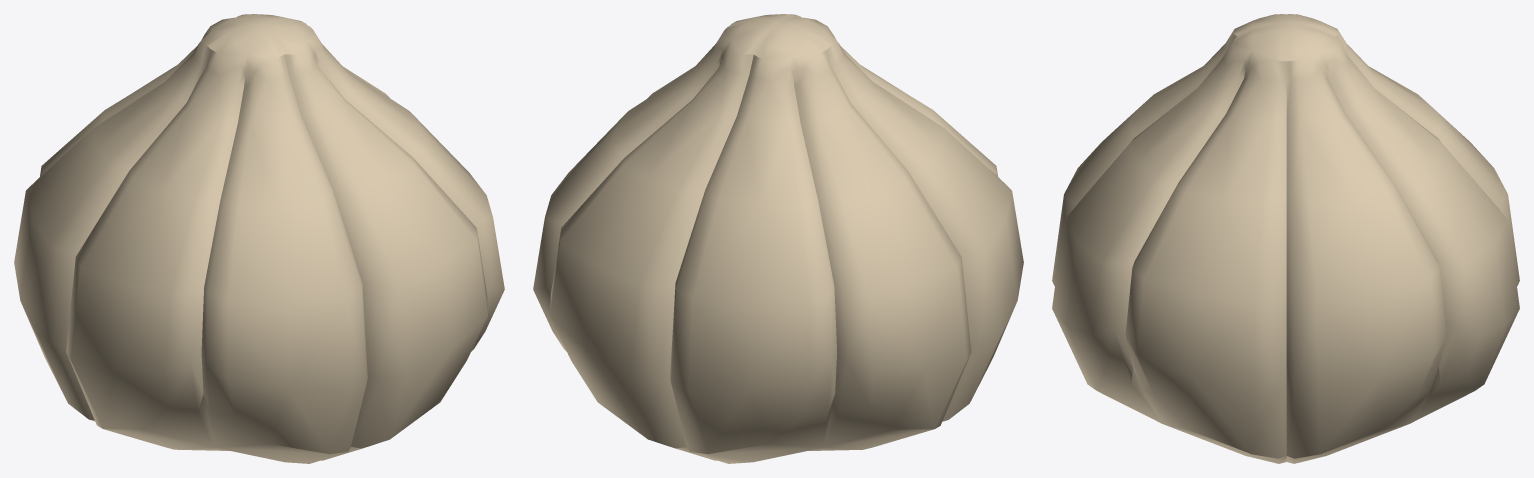
Rendered from Food_Chukaman.fbx.
3 views of the same model, side by side, from view 1: azimuth 30°, elevation 25°; view 2: azimuth 150°, elevation 25°; view 3: azimuth 270°, elevation 25° (orthographic).
Visible parts, largest first — view 1: Food_Chukaman; view 2: Food_Chukaman; view 3: Food_Chukaman.
Part boxes in pixels (x1,y1,x2,y2): Food_Chukaman: [14, 14, 504, 463]; Food_Chukaman: [533, 14, 1023, 463]; Food_Chukaman: [1052, 14, 1519, 463].
Bounding box in the file's own units: 26.86 × 26.21 × 26.86.
